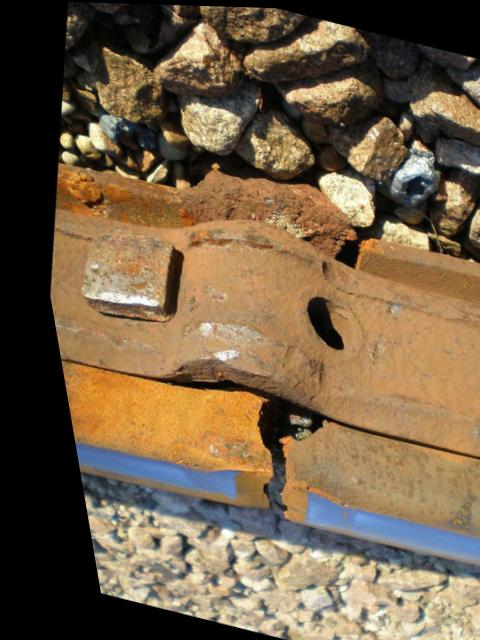person: (141, 331, 382, 557)
